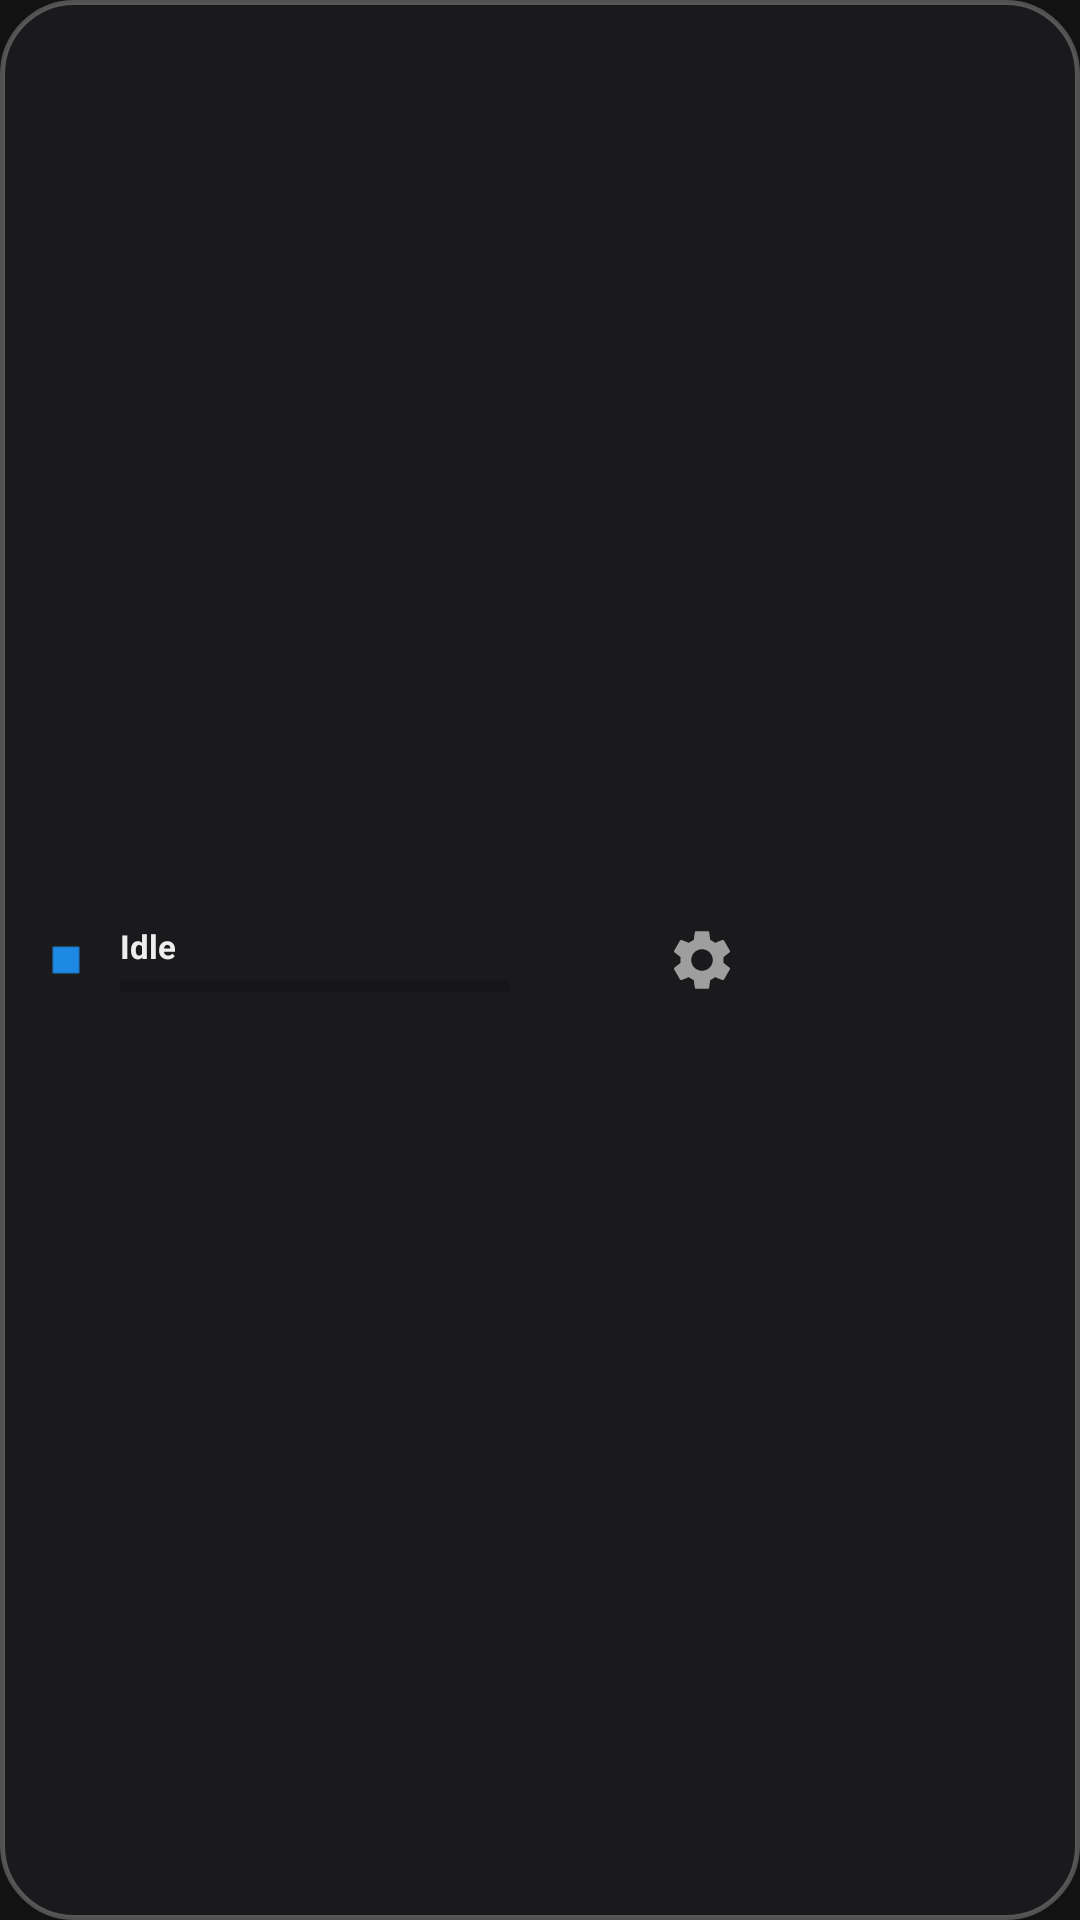

Point at icon controls on the screen. Image size 1080px x 1920px, points as [x,y].
Settings: [702,960]
